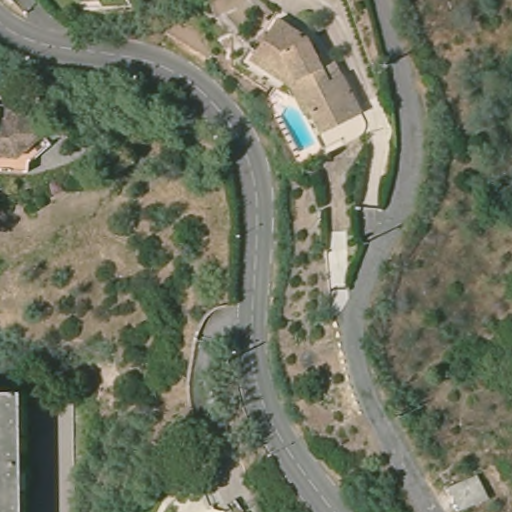pool: (280, 104, 319, 153)
